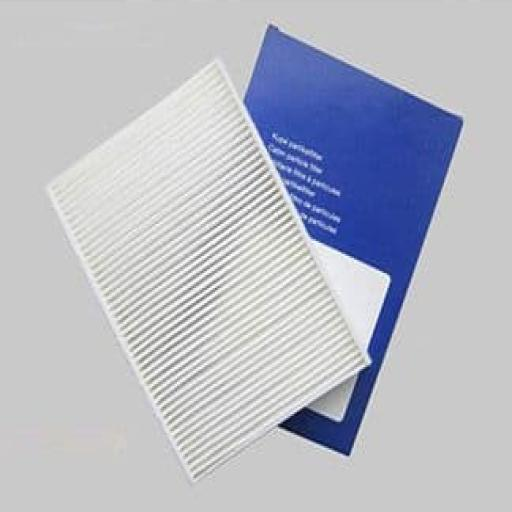cabin_filter: (43, 17, 471, 498)
